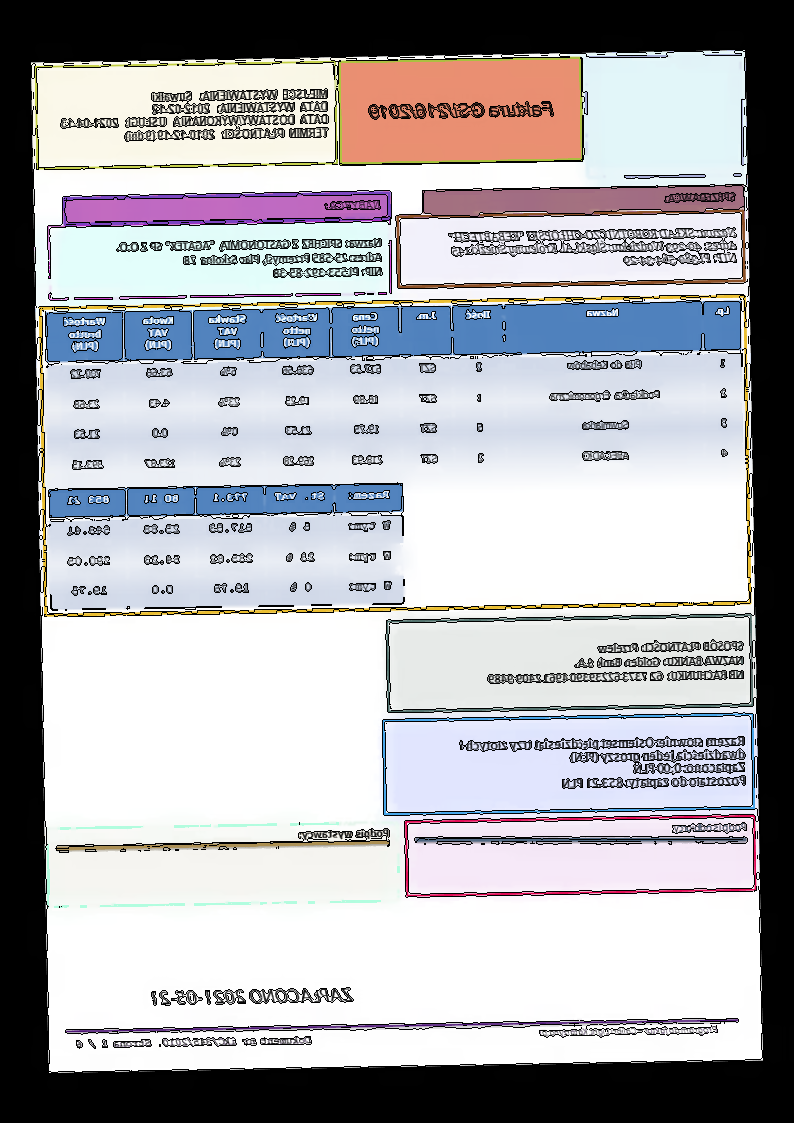Table: (45, 298, 746, 486), (48, 483, 406, 611)
TextBox: (457, 733, 748, 793), (59, 85, 330, 144), (445, 226, 739, 271), (114, 236, 384, 282), (487, 638, 746, 685), (150, 984, 356, 1010), (368, 98, 557, 121), (74, 1033, 315, 1051), (537, 1023, 720, 1040), (297, 826, 392, 843), (671, 820, 749, 836), (664, 190, 738, 204), (324, 199, 382, 212)
